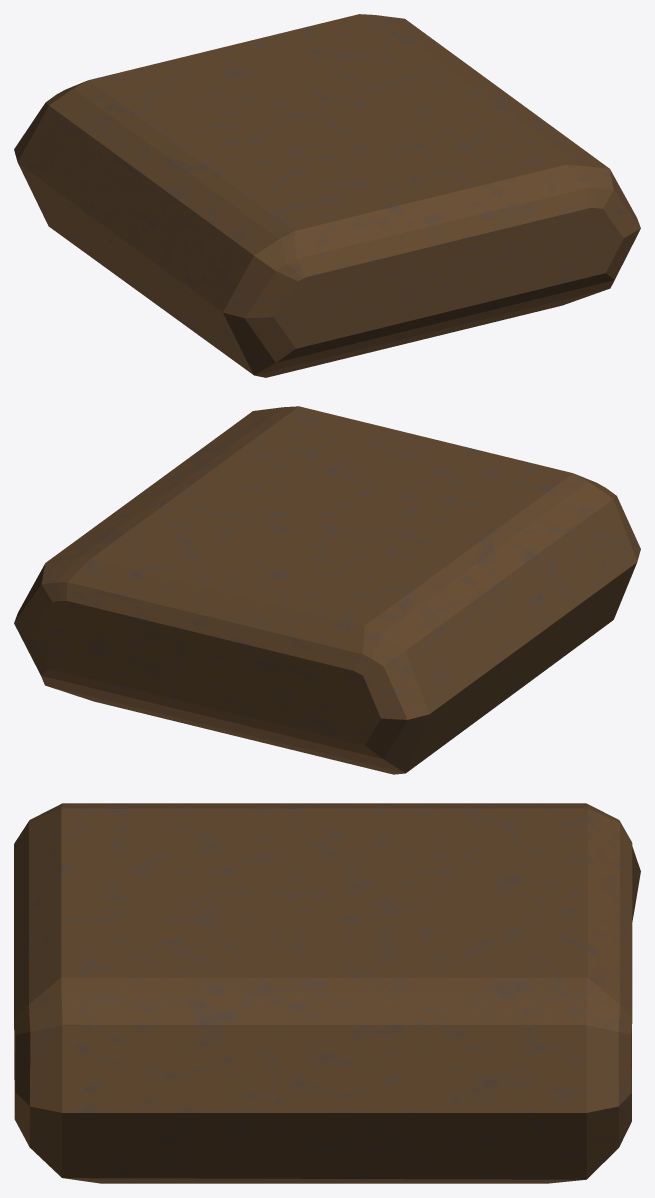
The model's file is DirtPlat(FP).fbx.
The picture shows the model from 3 angles, top to bottom: view 1: azimuth 30°, elevation 25°; view 2: azimuth 150°, elevation 25°; view 3: azimuth 270°, elevation 25°; orthographic projection. The views are drawn at different scales.
Visible parts, largest first — view 1: DirtPlat(FP); view 2: DirtPlat(FP); view 3: DirtPlat(FP).
Boxes of the visible parts, x1=… form: DirtPlat(FP): x1=14, y1=14, x2=640, y2=377; DirtPlat(FP): x1=14, y1=406, x2=640, y2=774; DirtPlat(FP): x1=14, y1=803, x2=640, y2=1183.
Size of the model in its own units: 460 by 186 by 476.
1 material, 1 textured.
